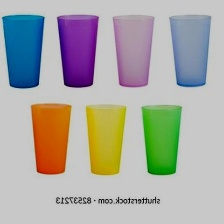glass: (162, 9, 215, 91), (24, 99, 79, 178), (109, 8, 159, 92), (138, 98, 189, 180), (53, 10, 103, 93), (83, 98, 133, 180), (0, 11, 49, 92)
